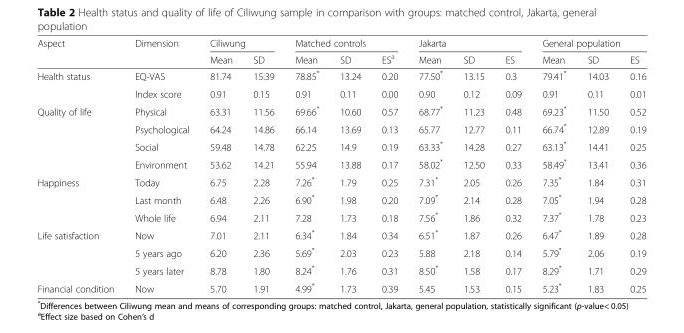table: (36, 37, 645, 293)
table column: (36, 37, 123, 293), (123, 37, 198, 293), (407, 37, 452, 293), (531, 37, 576, 293), (198, 37, 242, 293), (284, 37, 328, 293), (242, 37, 284, 293), (328, 37, 370, 293), (452, 37, 494, 293), (576, 37, 618, 293), (370, 37, 407, 293), (494, 37, 531, 293), (618, 37, 645, 293)
table column header: (36, 37, 645, 66)
table row: (36, 66, 645, 84), (36, 101, 645, 119), (36, 119, 645, 137), (36, 154, 645, 172), (36, 172, 645, 190), (36, 207, 645, 225), (36, 225, 645, 243), (36, 260, 645, 278), (36, 84, 645, 101), (36, 137, 645, 154), (36, 190, 645, 207), (36, 243, 645, 260), (36, 50, 645, 66), (36, 278, 645, 293), (36, 37, 645, 50)
table spanning cell: (36, 101, 123, 172), (36, 172, 123, 225), (36, 225, 123, 278), (36, 66, 123, 101), (36, 37, 123, 66), (123, 37, 198, 66), (407, 37, 531, 50), (284, 37, 407, 50), (531, 37, 645, 50), (198, 37, 284, 50)
